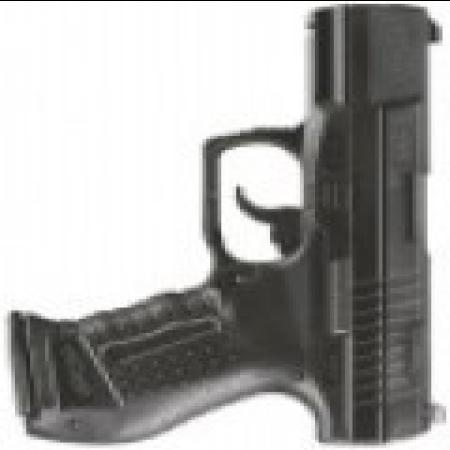Pistol: (22, 3, 446, 439)
